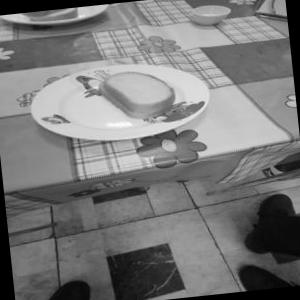bread: (90, 56, 188, 134)
